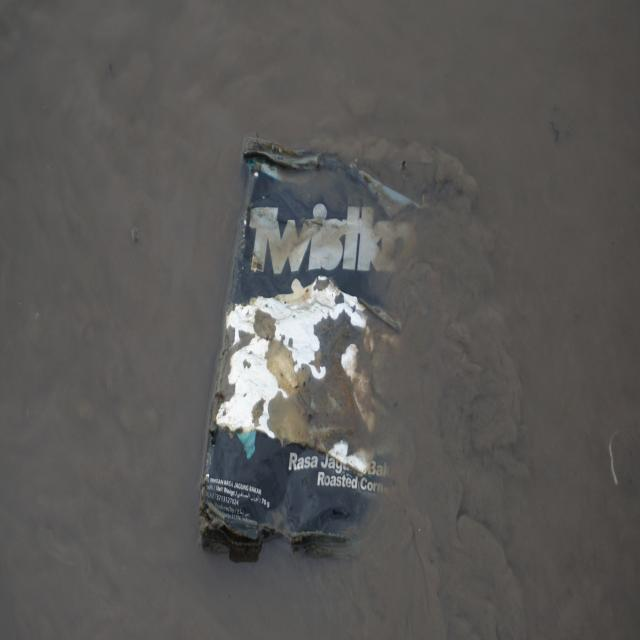Bungkus Makanan: (198, 131, 434, 560)
